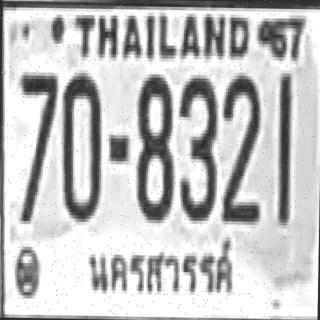N00: (61, 69, 101, 219)
N01: (276, 73, 290, 222)
N02: (221, 70, 259, 220)
N03: (177, 72, 217, 218)
N07: (16, 67, 56, 220)
N08: (135, 69, 173, 218)
P31: (79, 232, 238, 304)
